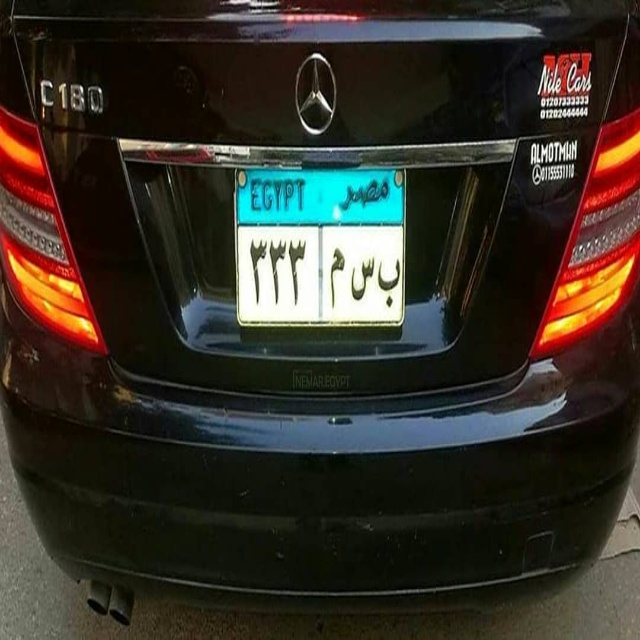License Plate: (231, 161, 409, 333)
